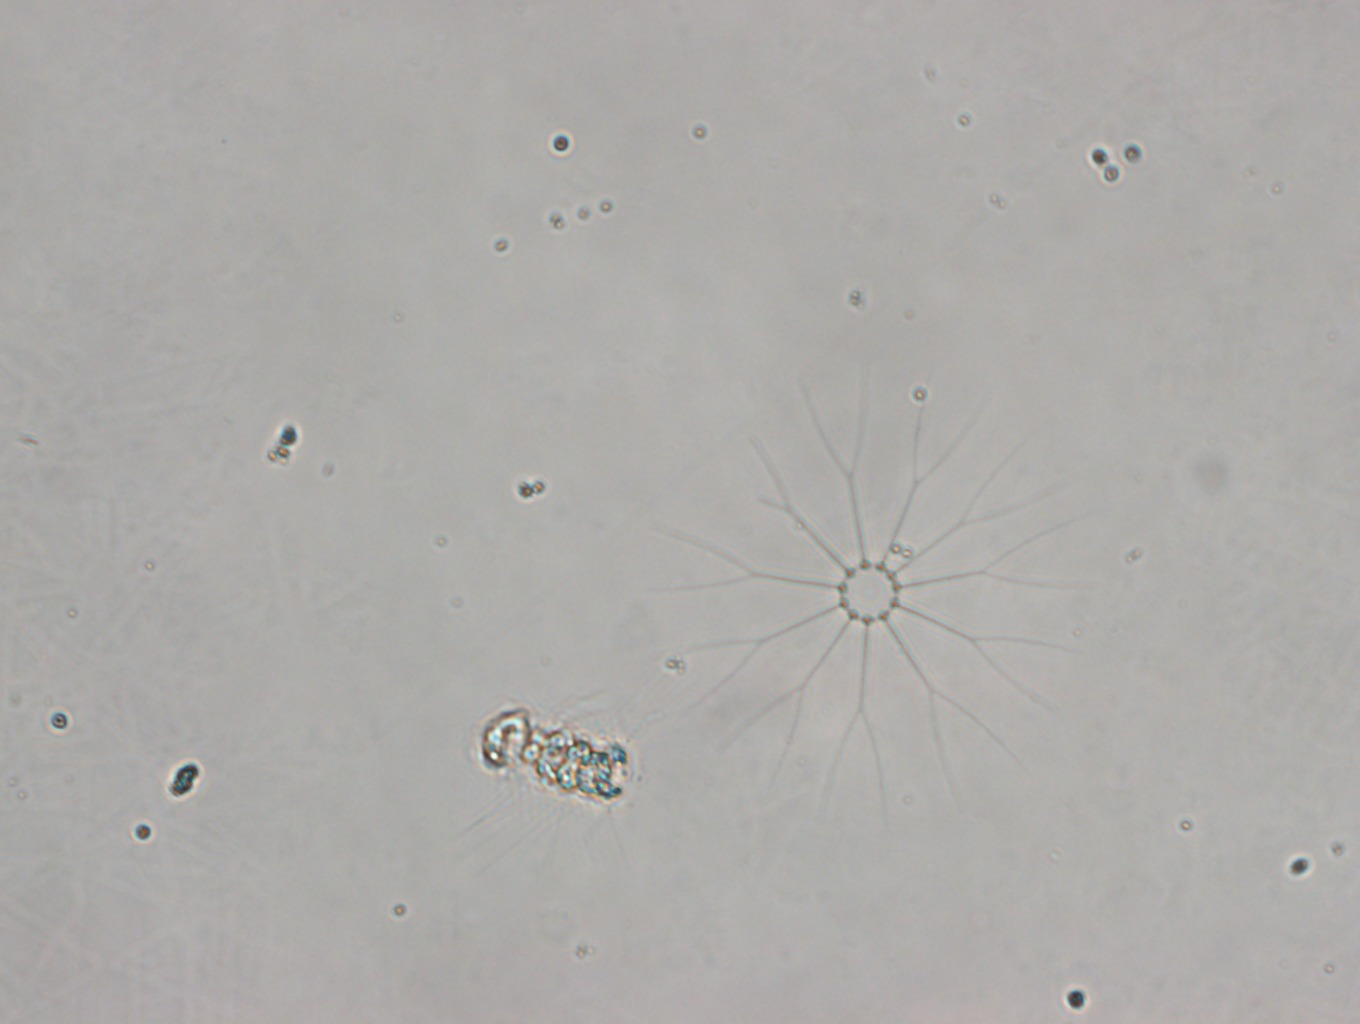bacteriastrum: (648, 372, 1094, 817)
